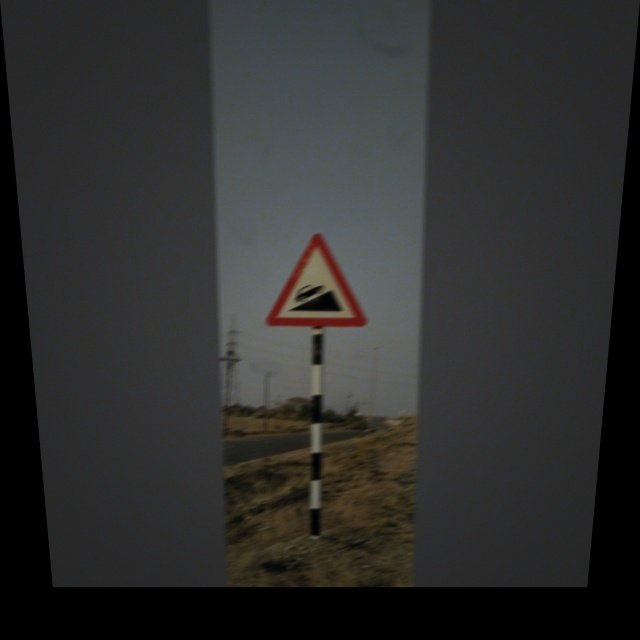Steep_Ascent: (268, 234, 370, 330)
